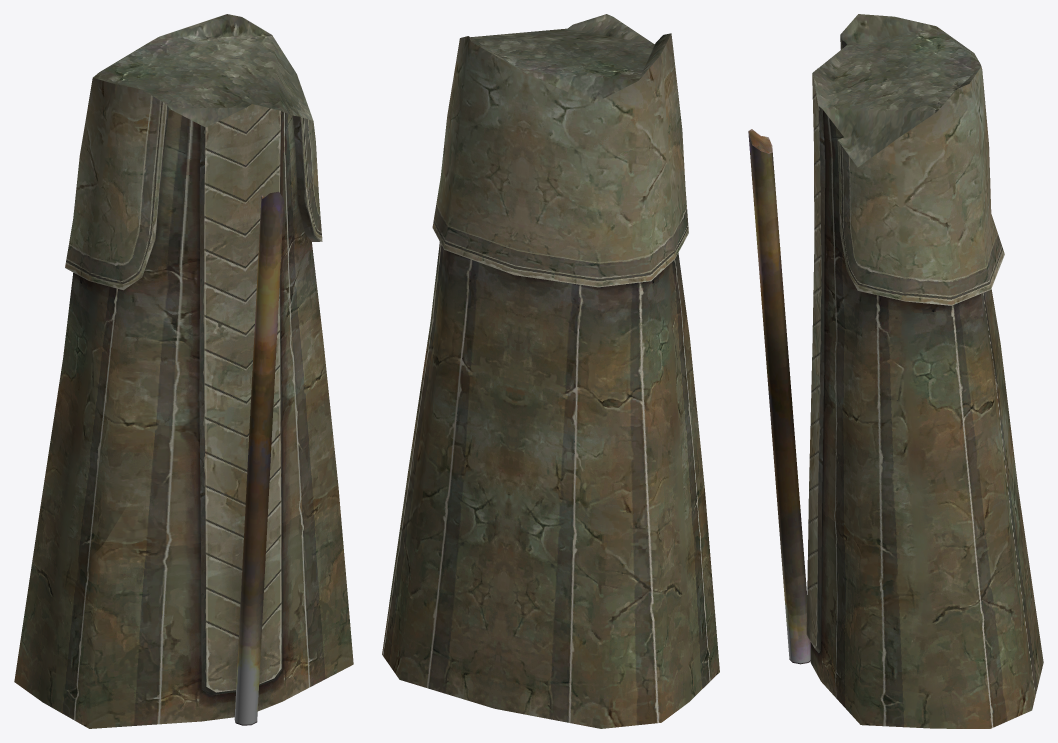
Rendered from bel_arch_rakata_statue_broken_legs.glb.
The picture shows the model from 3 angles, left to right: view 1: azimuth 30°, elevation 25°; view 2: azimuth 150°, elevation 25°; view 3: azimuth 270°, elevation 25°; orthographic projection. The views are drawn at different scales.
Visible parts, largest first — view 1: bel_arch_rakata_statue_broken_legs; view 2: bel_arch_rakata_statue_broken_legs; view 3: bel_arch_rakata_statue_broken_legs.
Part boxes in pixels (bbox=[...]): bel_arch_rakata_statue_broken_legs: bbox=[14, 14, 353, 728]; bel_arch_rakata_statue_broken_legs: bbox=[382, 14, 719, 728]; bel_arch_rakata_statue_broken_legs: bbox=[748, 14, 1043, 728].
Size of the model in its own units: 0.2919 by 0.6245 by 0.2742.
Materials: 2 (2 with a texture image).
